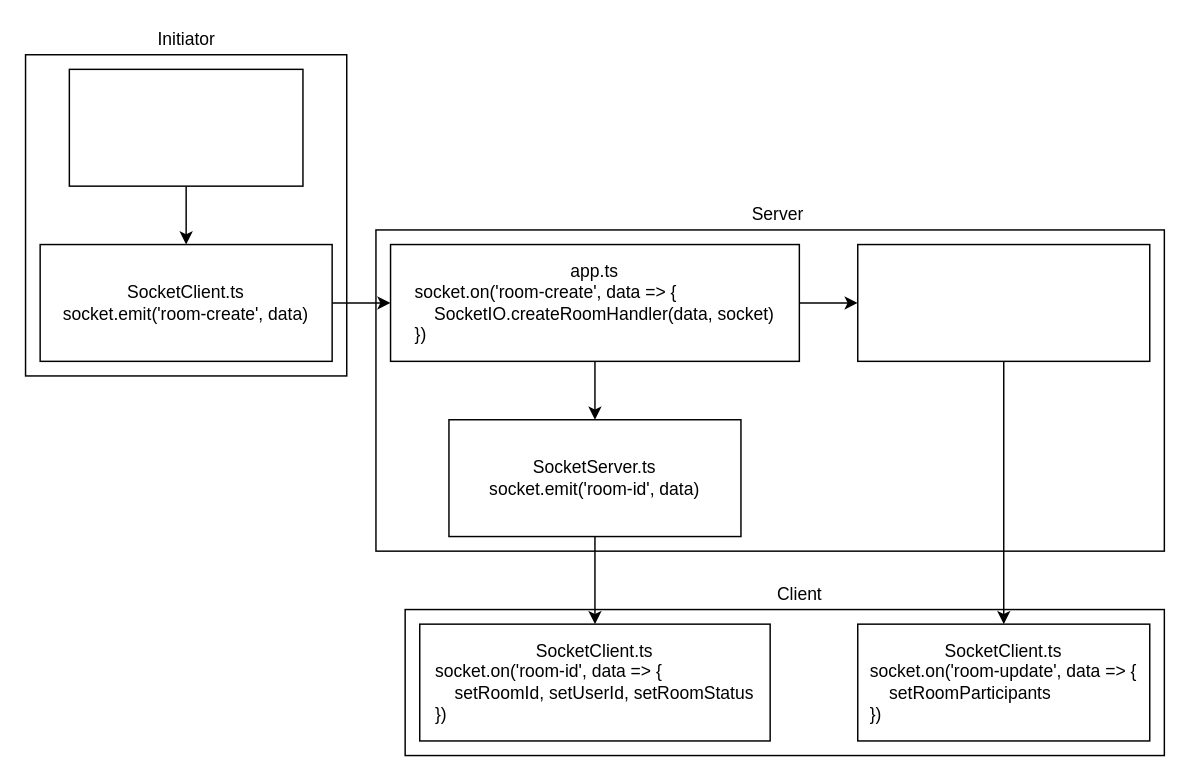
This 1190x781 diagram has some shape labels left out. Each missing label, with the centre of its shape:
Main.tsx handleCreateRoom: the point at 185,127
SocketServer.ts socket.emit('room-update', data): the point at 1003,302
